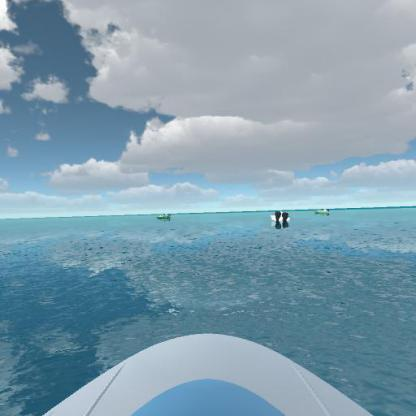usv0: (156, 209, 173, 223), (314, 204, 331, 216)
usv1: (267, 206, 297, 225)
